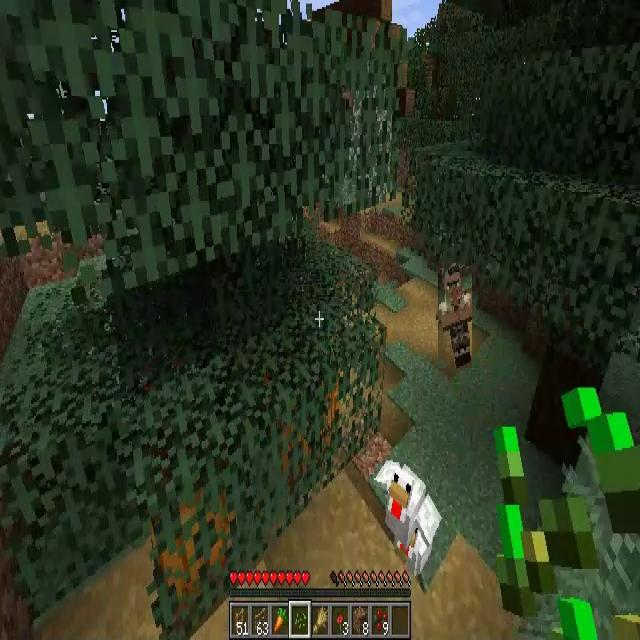duck: (378, 459, 442, 548)
people: (438, 268, 472, 368)
